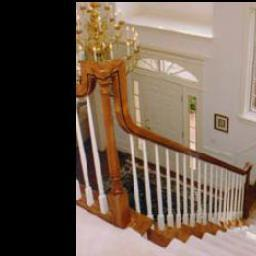Escaleras: (78, 95, 256, 256)
Matera: (137, 77, 187, 173)
